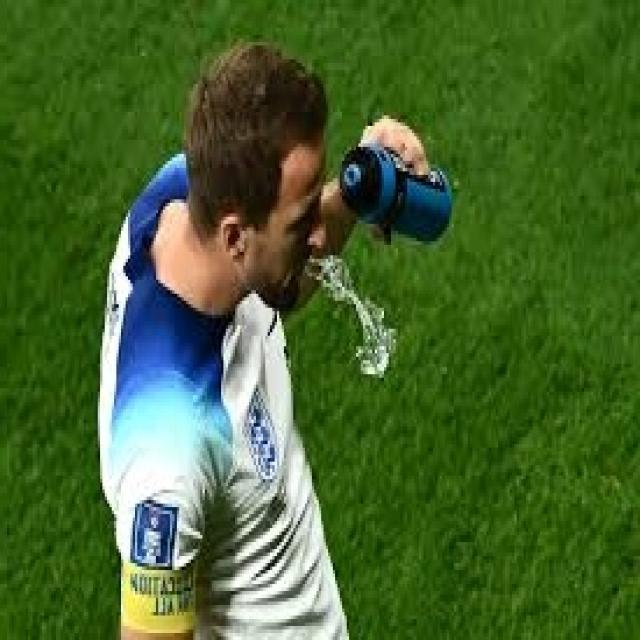Spitting: (186, 43, 365, 430)
